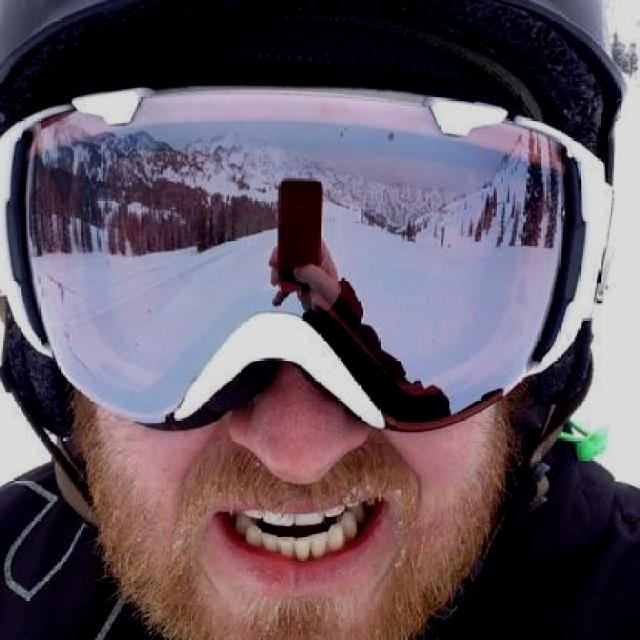face_nomask: (11, 90, 608, 581)
glasses: (0, 80, 614, 435)
